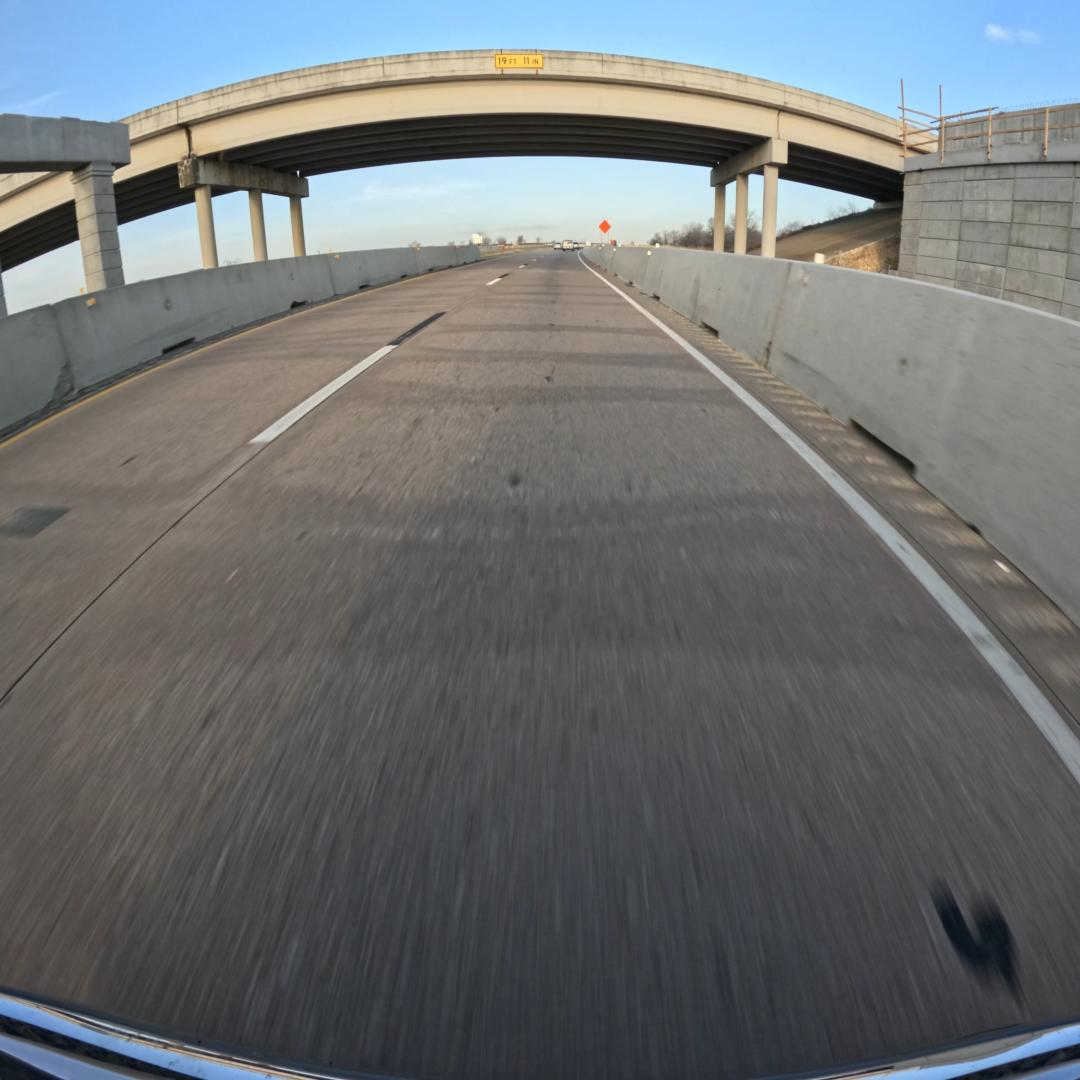lane0: (0, 254, 1080, 1080)
lane1: (0, 263, 509, 701)
